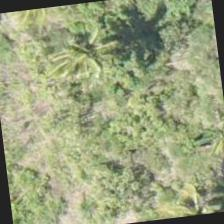Kelapa_Sawit: (31, 0, 131, 100)
